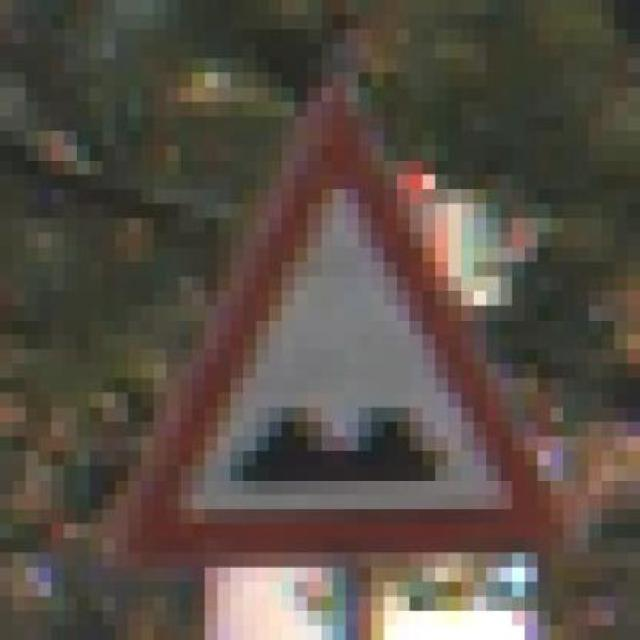Uneven Road: (102, 58, 564, 553)
